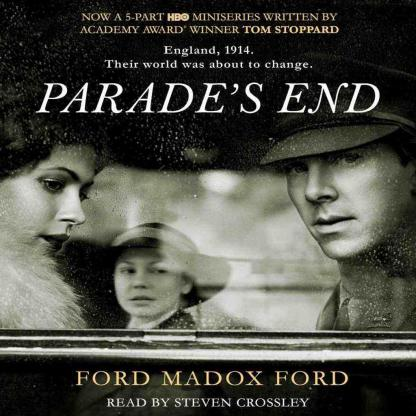face: (290, 126, 409, 259), (4, 143, 85, 265), (116, 243, 183, 317)
